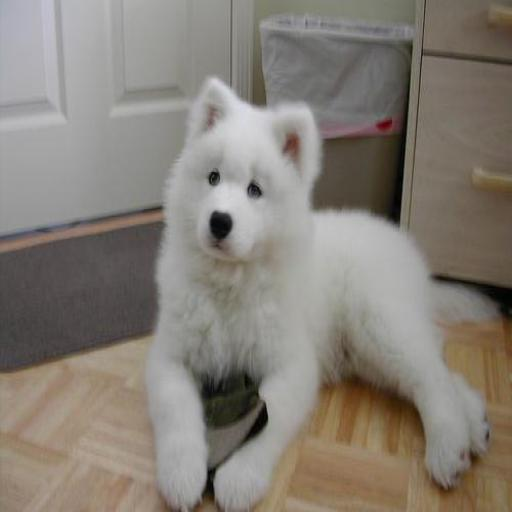dog_face: (168, 76, 330, 265)
